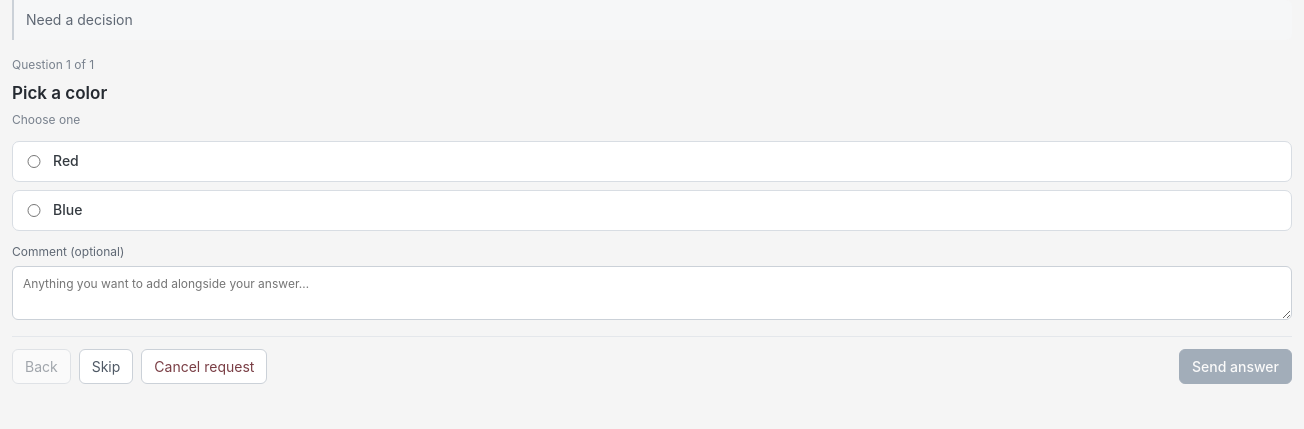
QuestionRich — Cancel (explicit pending-question cancellation) › a terminal cancel-submission error (conflict) shows the message WITHOUT a retry hint
The image size is (1304, 429).
What coordinates should you click on to do the following:
click the button with test id "question-cancel"
I would click on:
 (204, 366)
Its box is top-left (141, 349), bottom-right (267, 384).
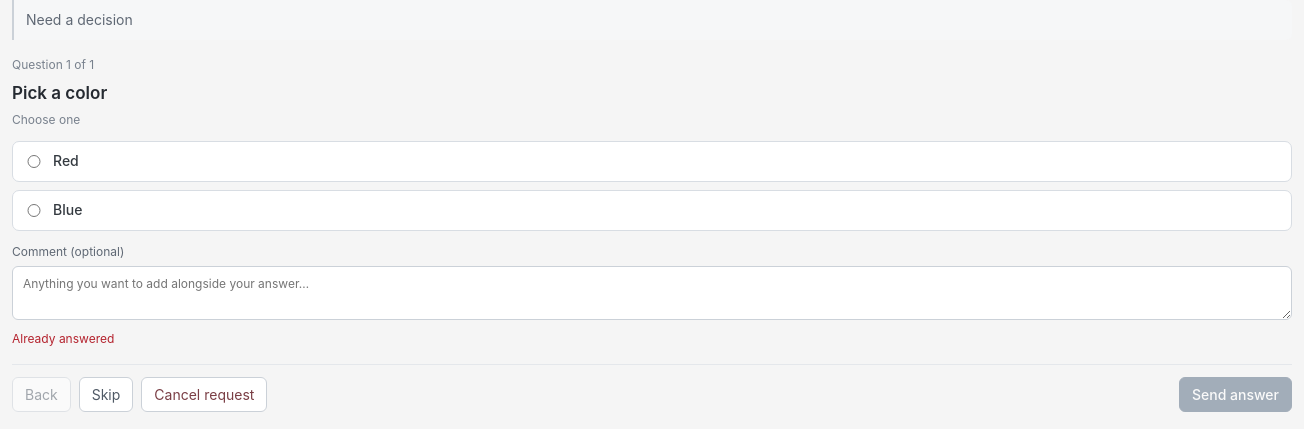
Expected: the text with test id "question-cancel-error" reads "Already answered", top-left (12, 331), bottom-right (114, 346)
